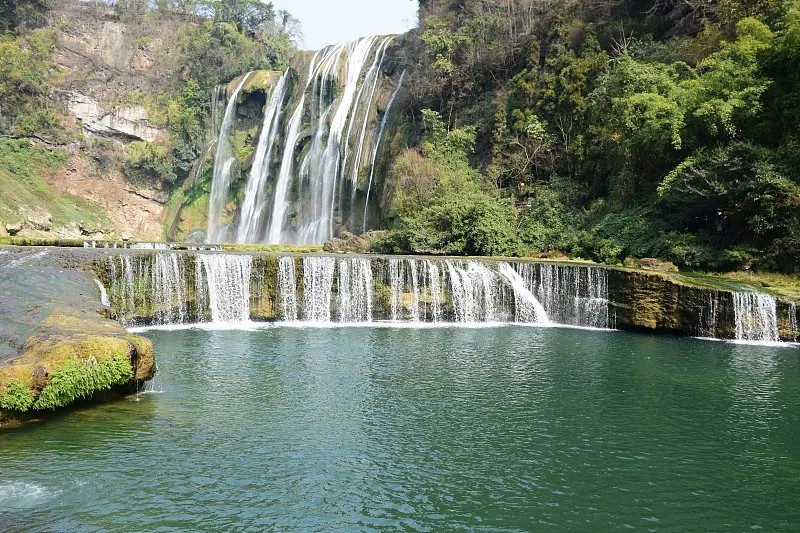Huangguoshu: (204, 33, 389, 246)
